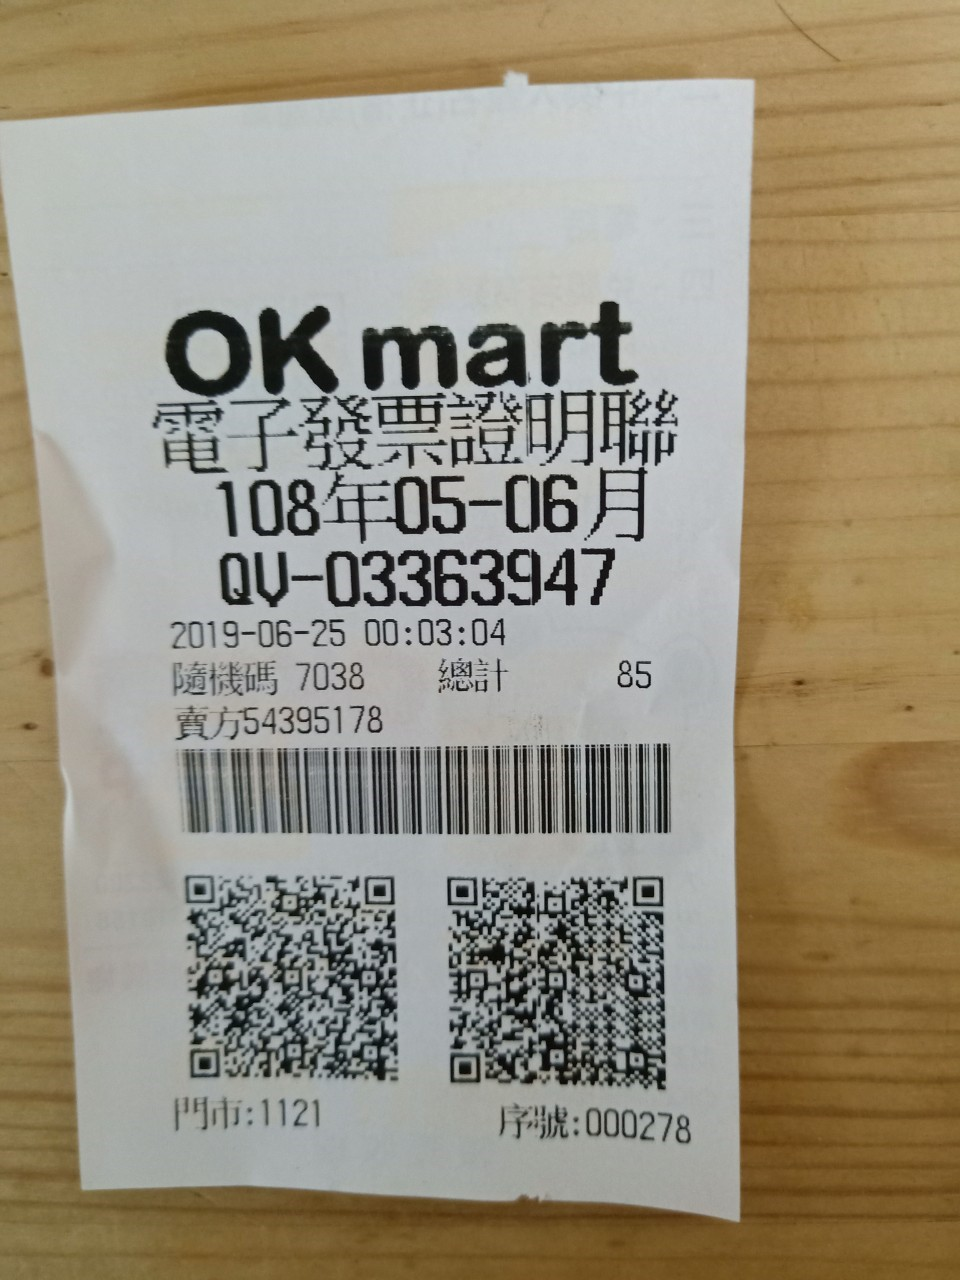Date_New: (215, 467, 652, 543)
Number_New: (326, 543, 618, 608)
